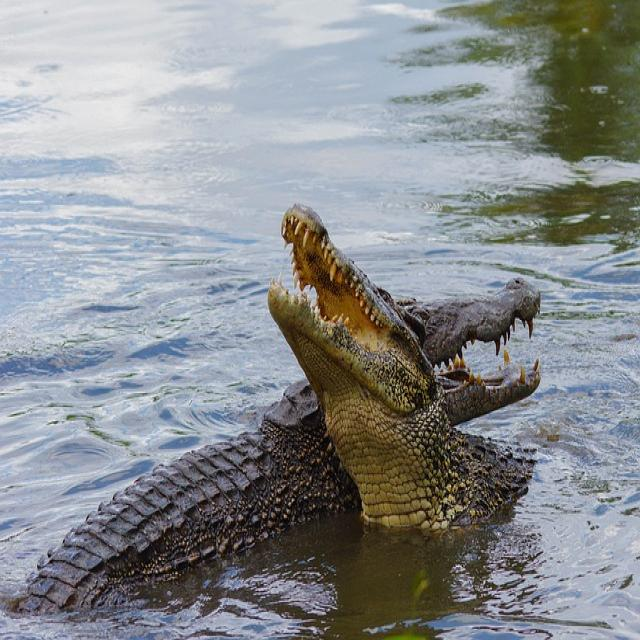Carnivorous: (267, 205, 535, 532), (15, 383, 361, 616), (401, 281, 543, 428)
